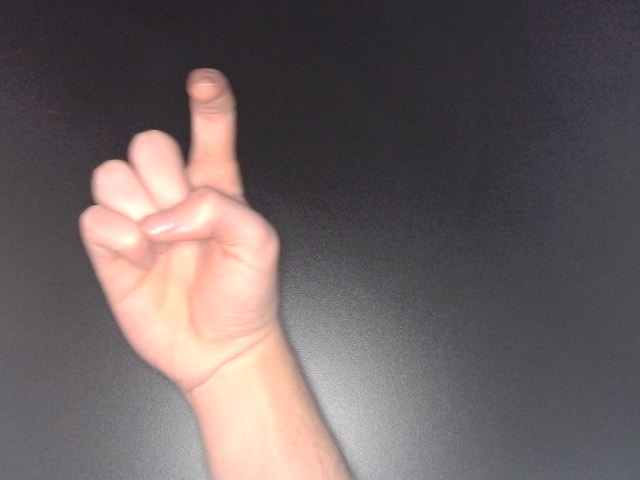x: (73, 61, 288, 393)
